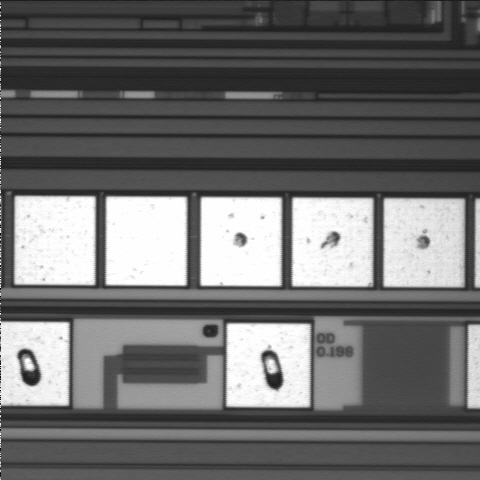pad: (106, 197, 187, 286), (201, 197, 282, 286), (292, 198, 373, 287), (15, 196, 95, 285), (226, 323, 310, 407), (384, 199, 464, 287)
